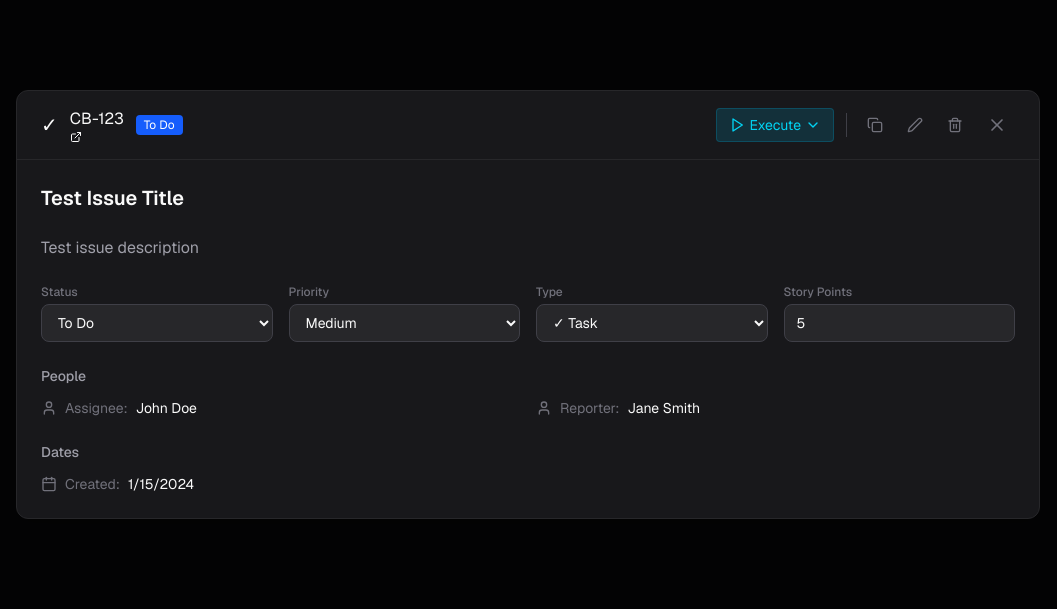
Test: IssueDetailModal › User Interactions › should exit edit mode when cancel is clicked
Enter edit mode
Click the button titled "Edit" at (915, 124), box 899,108 -> 931,140
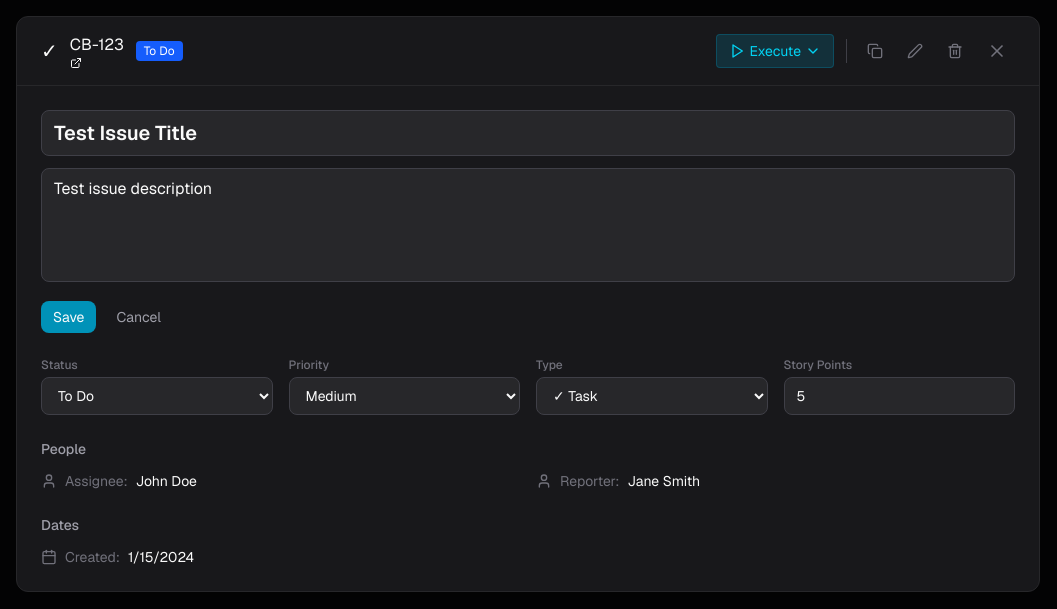
Click cancel
Click the button "Cancel" at (139, 317), box 104,301 -> 173,333
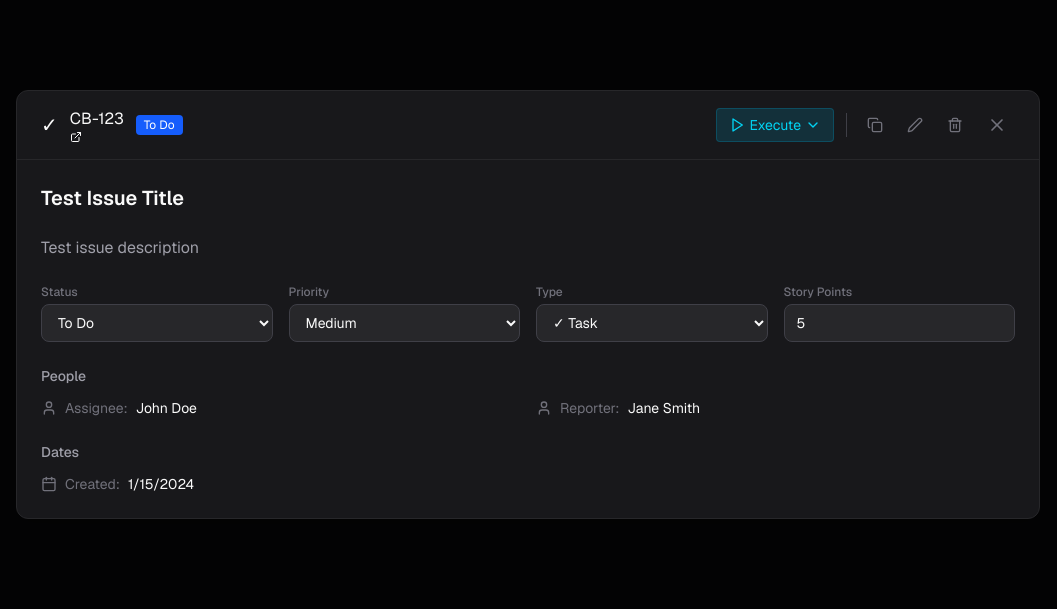
Expected: the heading "Test Issue Title" is shown, 41,184 -> 184,210
